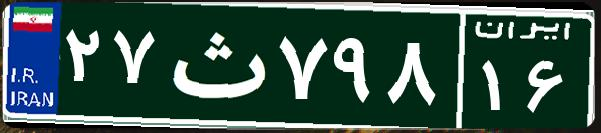1: (475, 38, 525, 113)
2: (57, 26, 110, 107)
6: (525, 38, 570, 115)
7: (273, 28, 330, 110), (110, 28, 158, 105)
8: (385, 28, 445, 110)
9: (330, 28, 385, 110)
ث: (158, 15, 273, 115)
